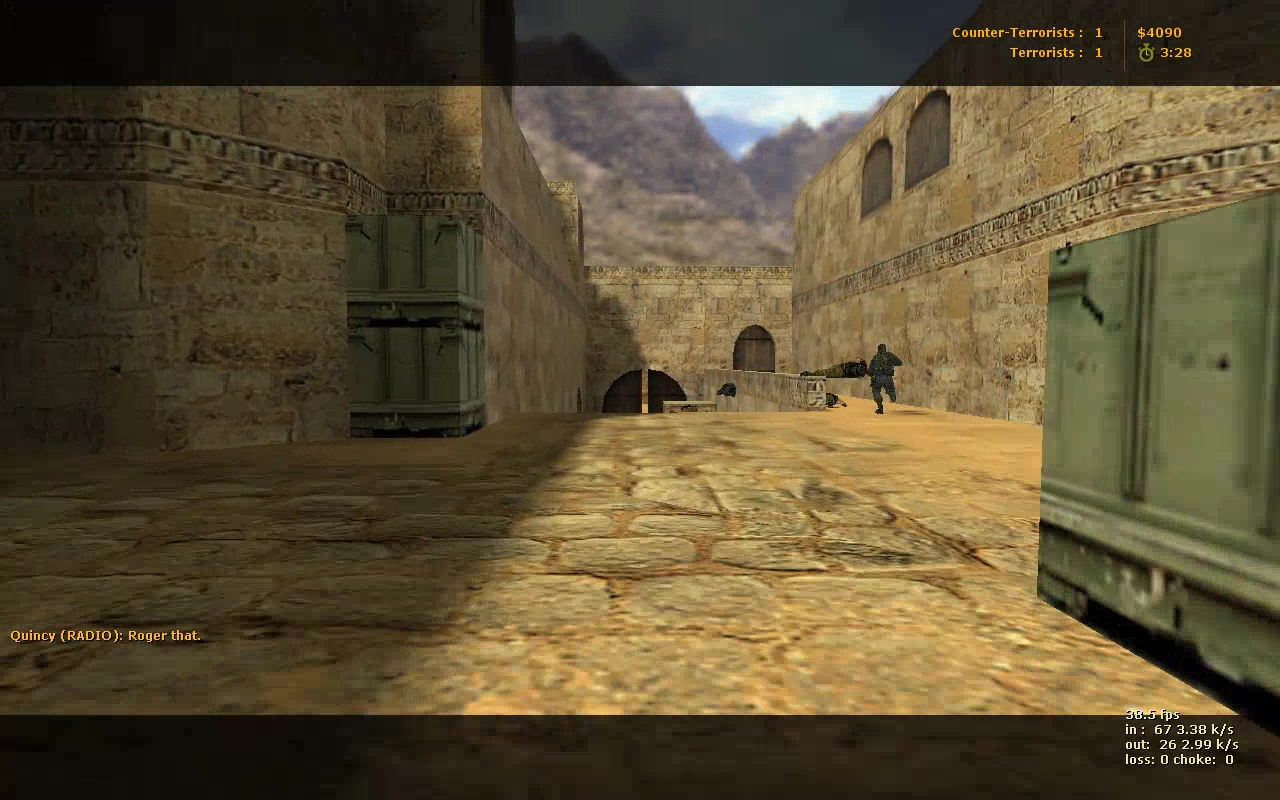ct: (870, 342, 901, 414)
dead: (797, 360, 876, 381)
